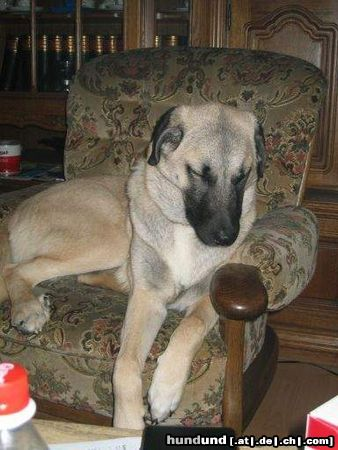kangal: (0, 100, 265, 429)
